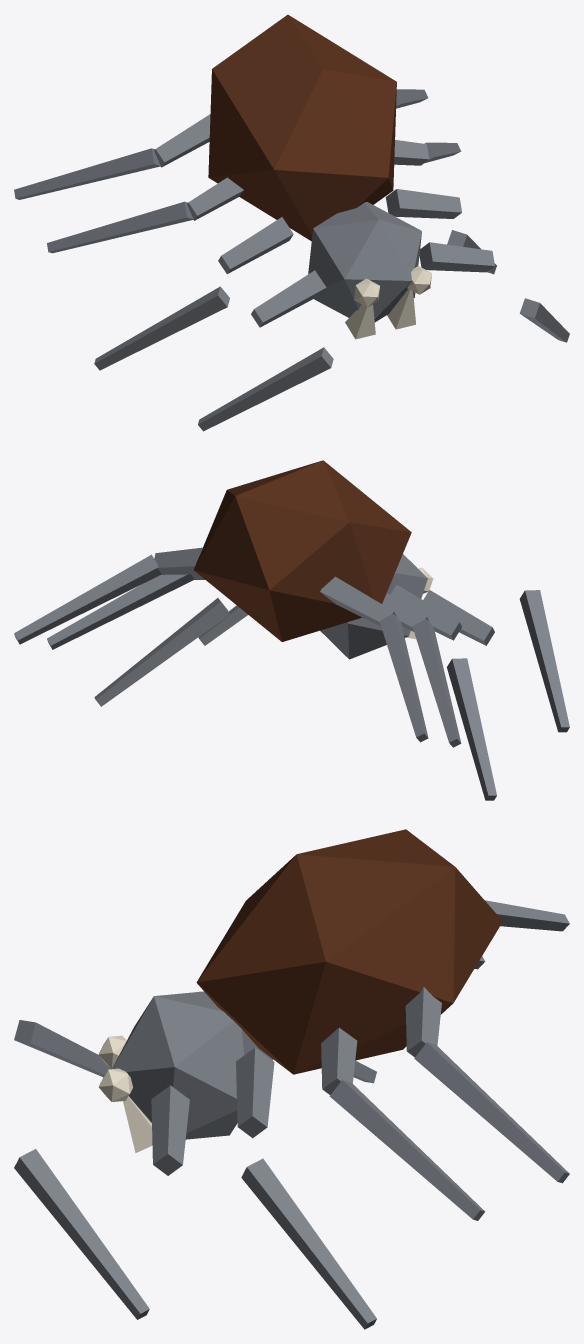
The model's file is npcpose_spider_attack_06.glb.
The picture shows the model from 3 angles, top to bottom: view 1: azimuth 30°, elevation 25°; view 2: azimuth 150°, elevation 25°; view 3: azimuth 270°, elevation 25°; orthographic projection. The views are drawn at different scales.
Visible parts, largest first — view 1: npcpose; view 2: npcpose; view 3: npcpose.
Boxes of the visible parts, left/top/right/bottom form: npcpose: left=14, top=14, right=569, bottom=431; npcpose: left=14, top=460, right=569, bottom=800; npcpose: left=14, top=829, right=569, bottom=1329.
Bounding box in the file's own units: 1.43 × 0.9146 × 1.3.
